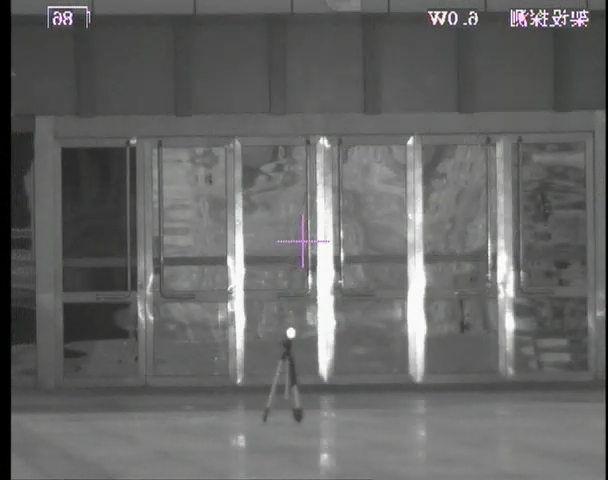my: (285, 326, 296, 340)
